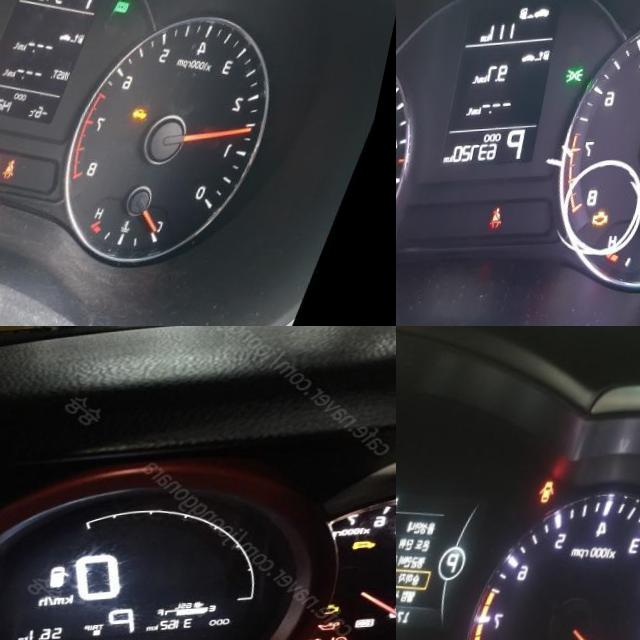Doors: (550, 483, 571, 507), (3, 157, 20, 178)
SideLamp: (578, 70, 599, 86)
